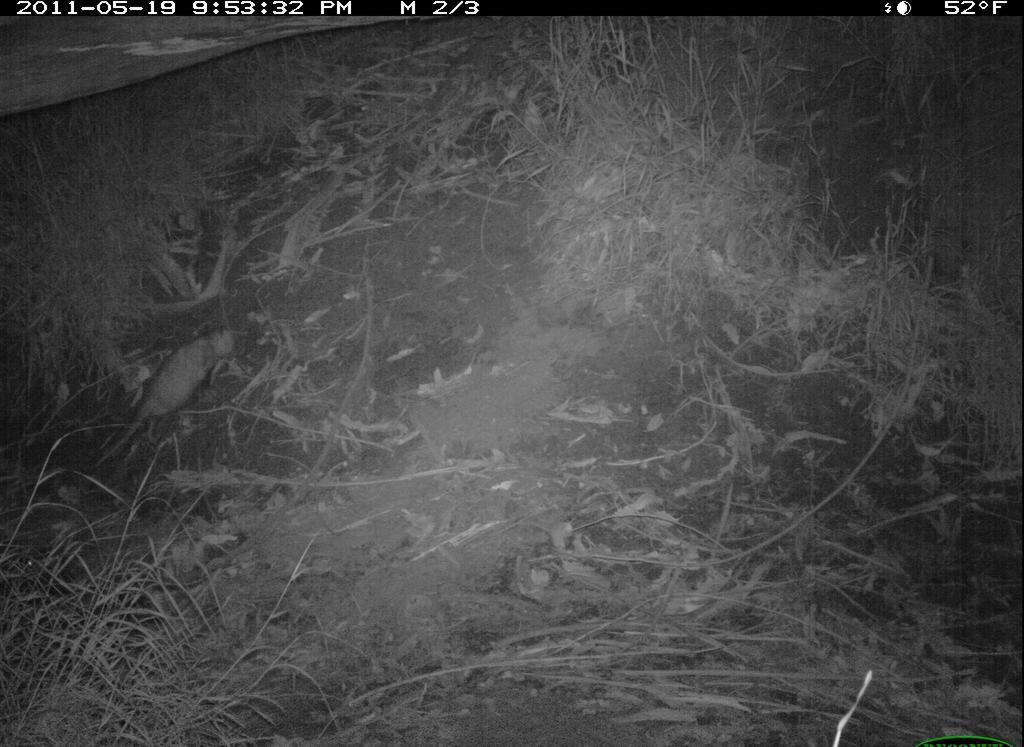opossum: (89, 321, 242, 475)
